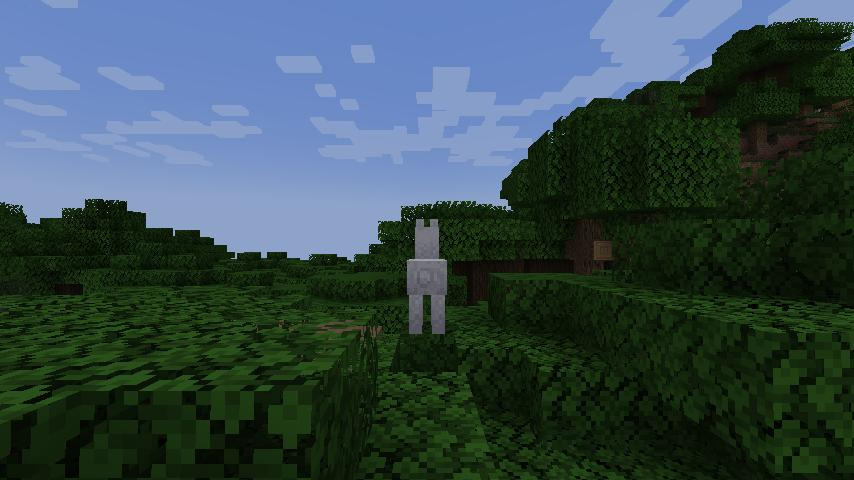llama: (400, 210, 455, 339)
